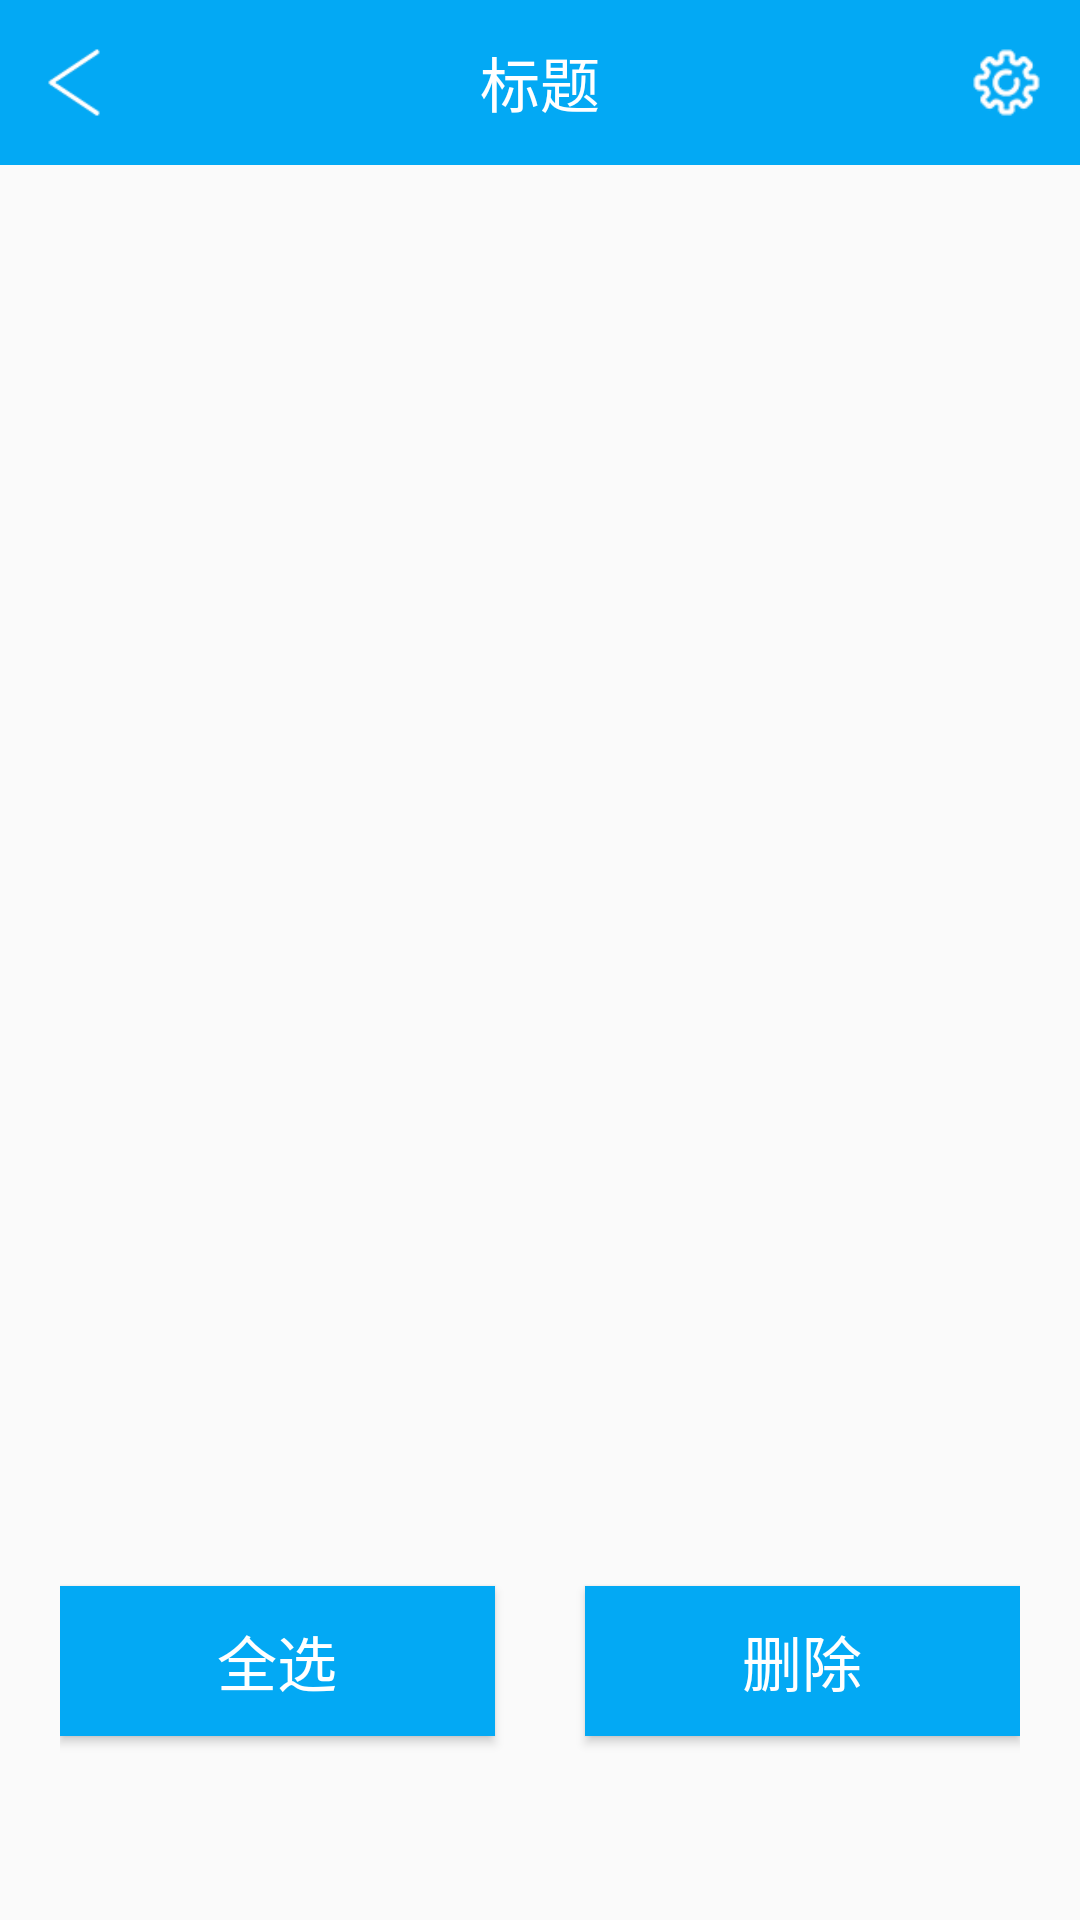

Screen size 1080x1920. Icon name, then its center in pixels as [x,y]:
left: [74,82]
setter: [1006,82]
